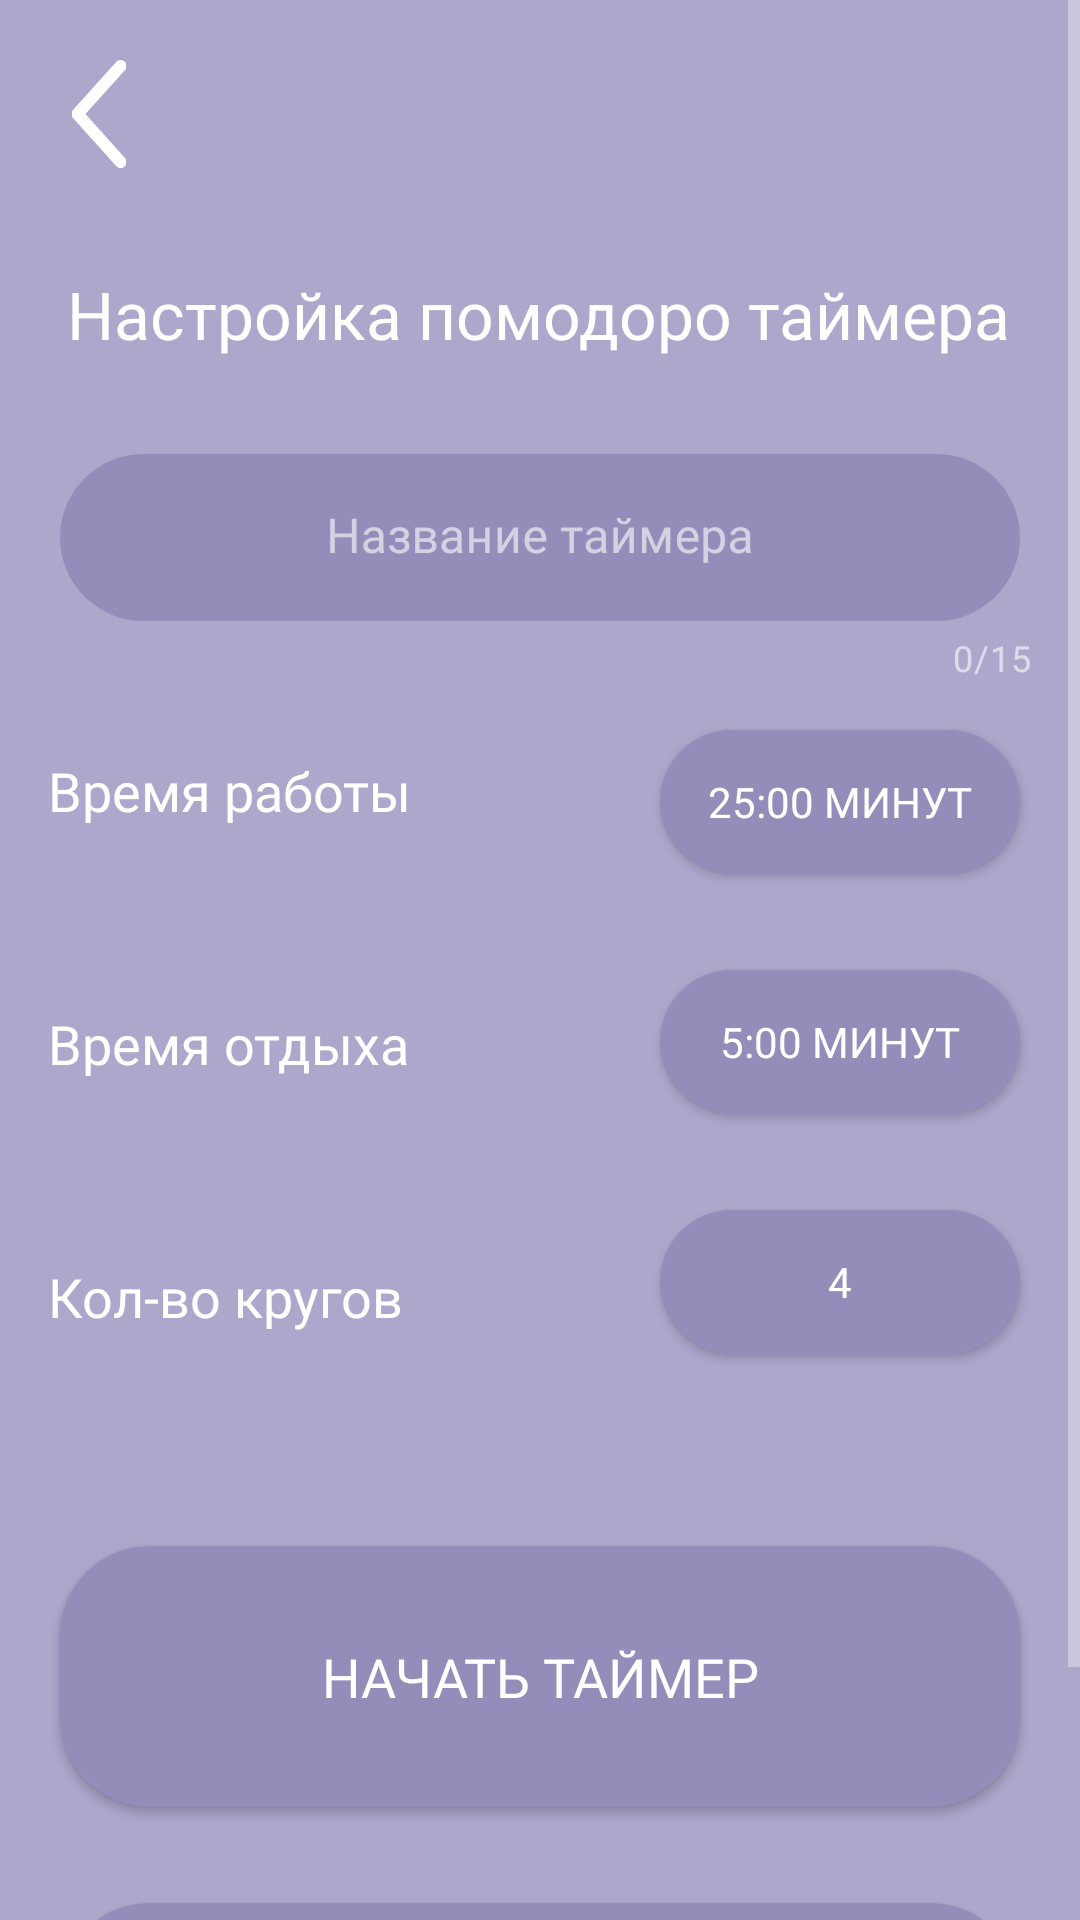

Named icons in this screenshot (1080w x 1920h) and their bounding boxes, box=[x1, y1, x2, y2]:
back arrow: box=[72, 60, 126, 168]
